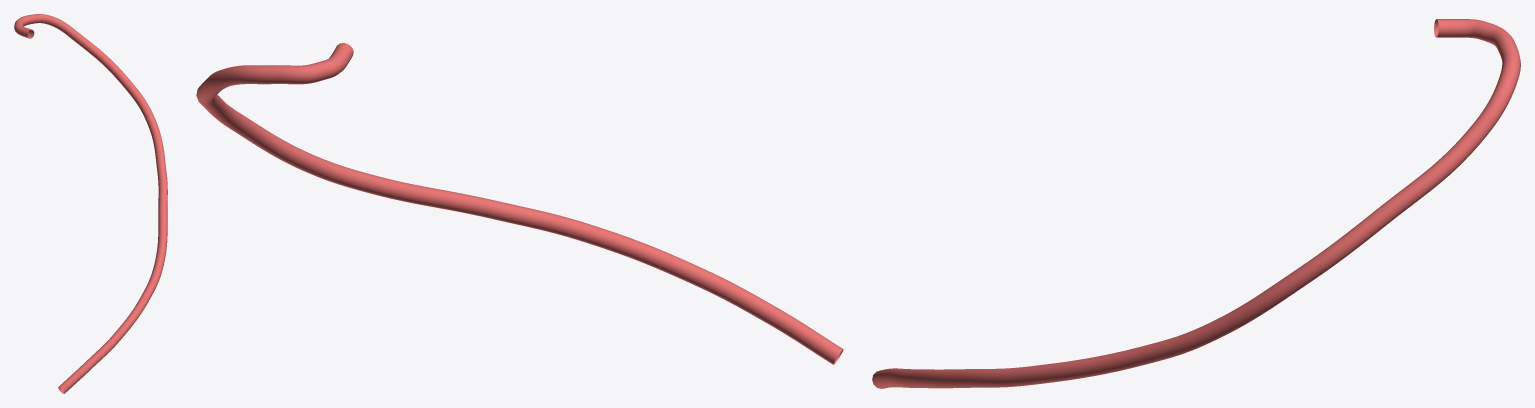
File: First_posterior_intercostal_artery.l_BezierCurve.179.glb
3 views of the same model, side by side, from view 1: azimuth 30°, elevation 25°; view 2: azimuth 150°, elevation 25°; view 3: azimuth 270°, elevation 25° (orthographic). The views are drawn at different scales.
Parts seen in each view (by area): view 1: First_posterior_intercostal_artery.l_BezierCurve.179; view 2: First_posterior_intercostal_artery.l_BezierCurve.179; view 3: First_posterior_intercostal_artery.l_BezierCurve.179.
Part boxes in pixels (x1,y1,x2,y2): First_posterior_intercostal_artery.l_BezierCurve.179: (14,14,167,393); First_posterior_intercostal_artery.l_BezierCurve.179: (196,43,843,364); First_posterior_intercostal_artery.l_BezierCurve.179: (872,19,1520,388).
Size of the model in its own units: 0.0493 by 0.0556 by 0.0692.
